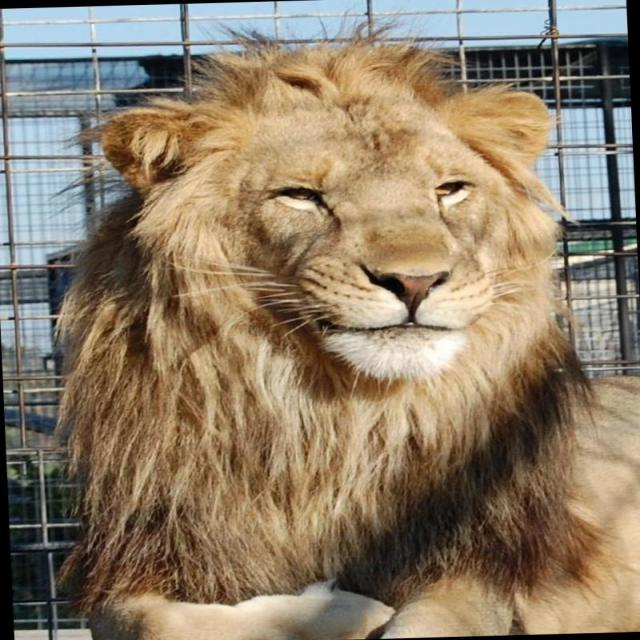Lion: (26, 0, 639, 639)
